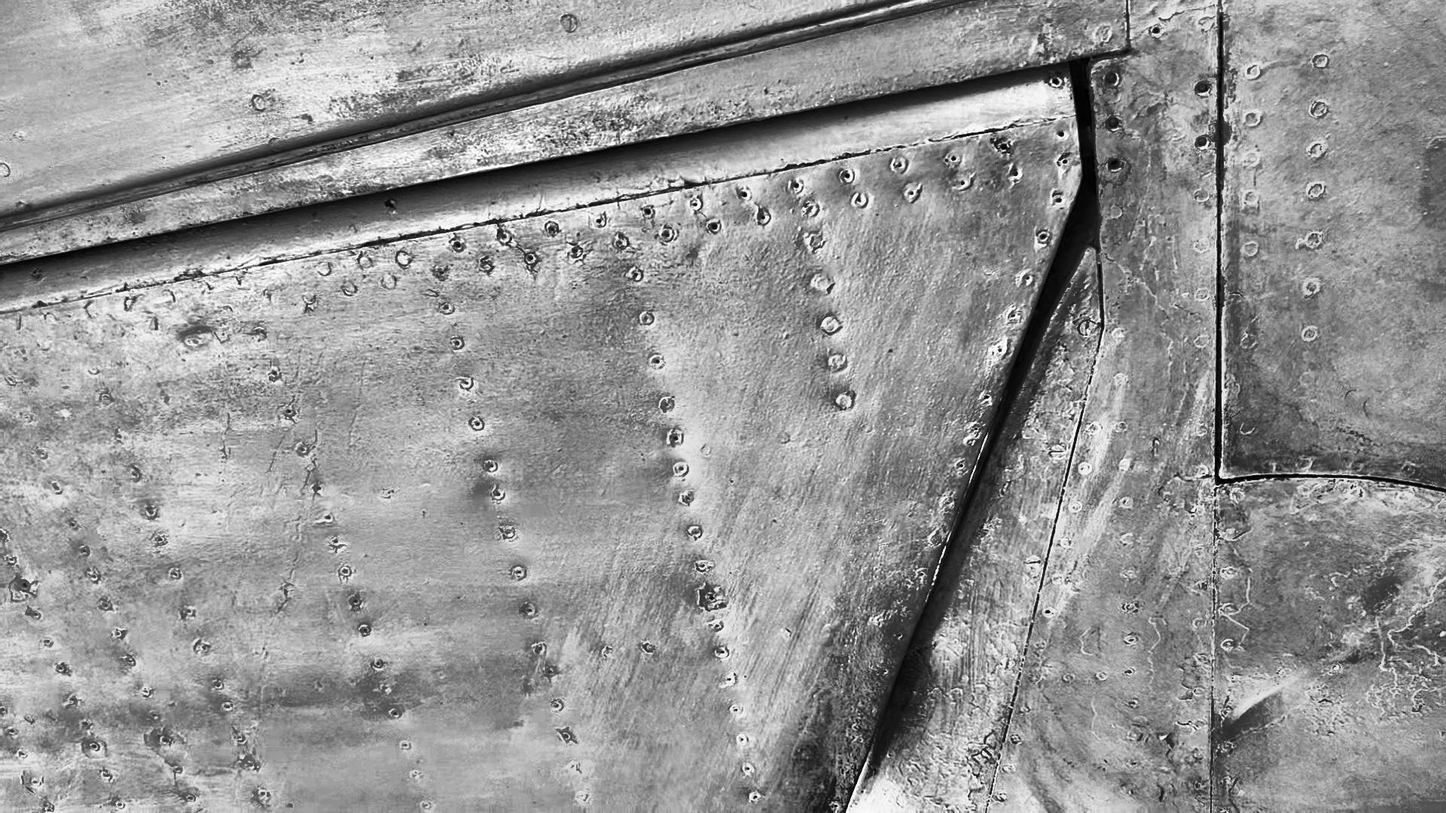dent: (1222, 685, 1278, 732), (908, 629, 947, 685), (179, 324, 213, 352)
missing-head: (1103, 70, 1122, 87), (1105, 158, 1126, 169), (1107, 117, 1122, 132), (1196, 81, 1209, 96), (1196, 134, 1207, 151)
